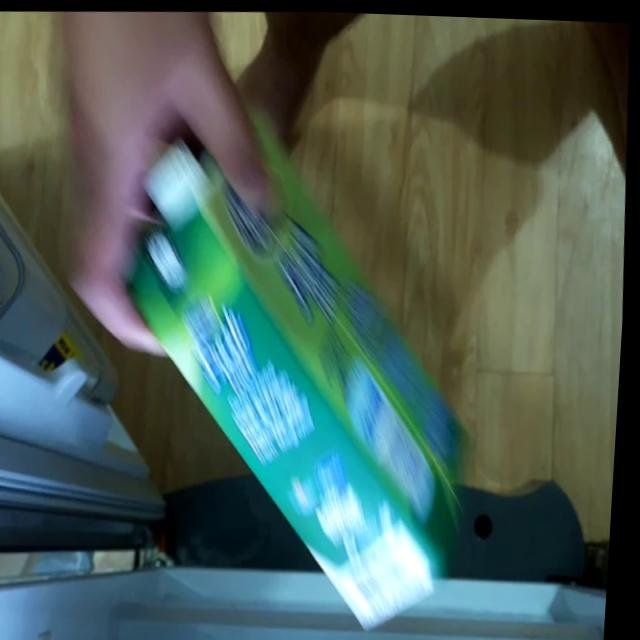milk: (95, 39, 511, 640)
